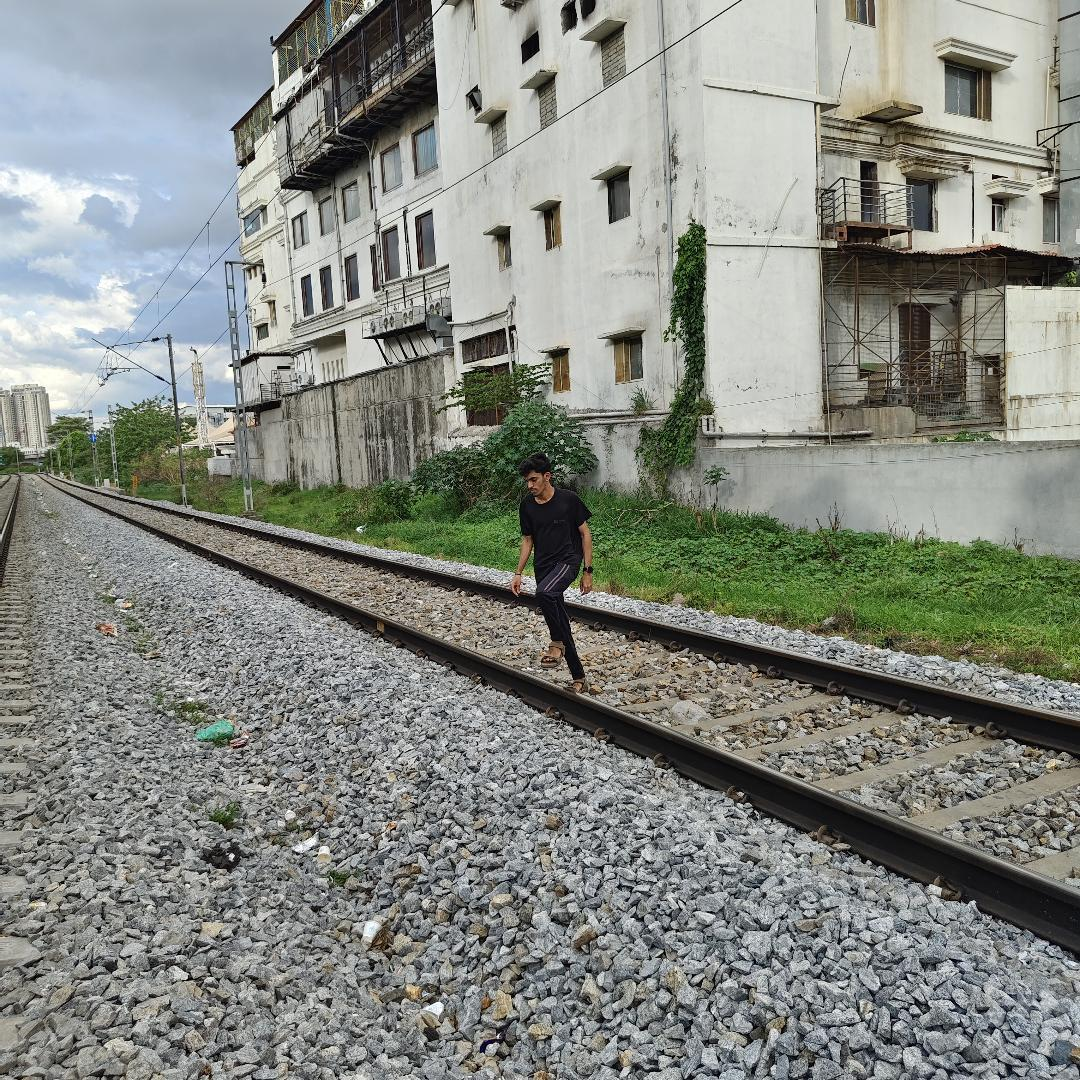standing: (498, 441, 607, 696)
